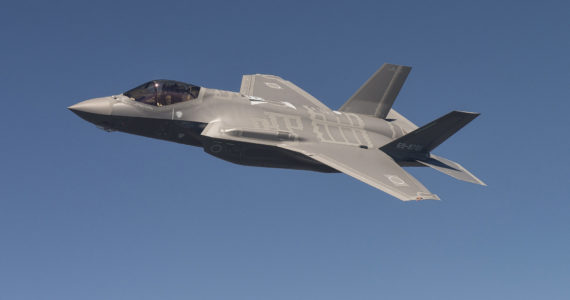F-35 Lightning: (59, 28, 503, 257)
